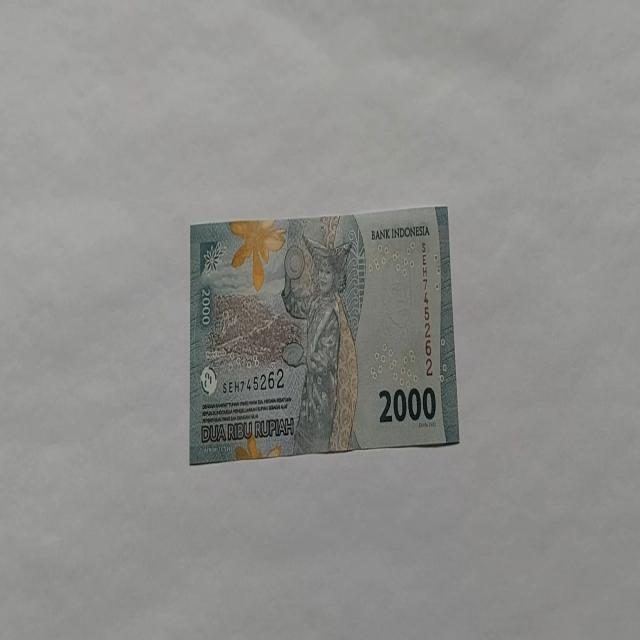dua ribu rupiah: (188, 204, 460, 463), (279, 234, 359, 456)
